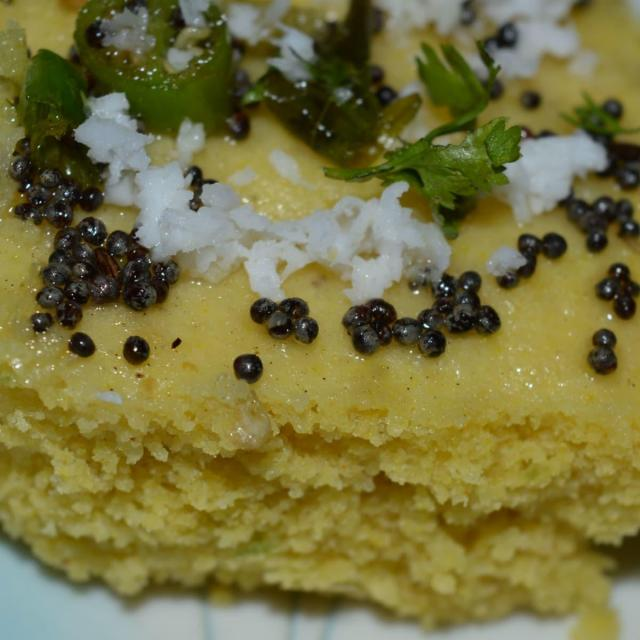dhokla: (5, 4, 640, 617)
